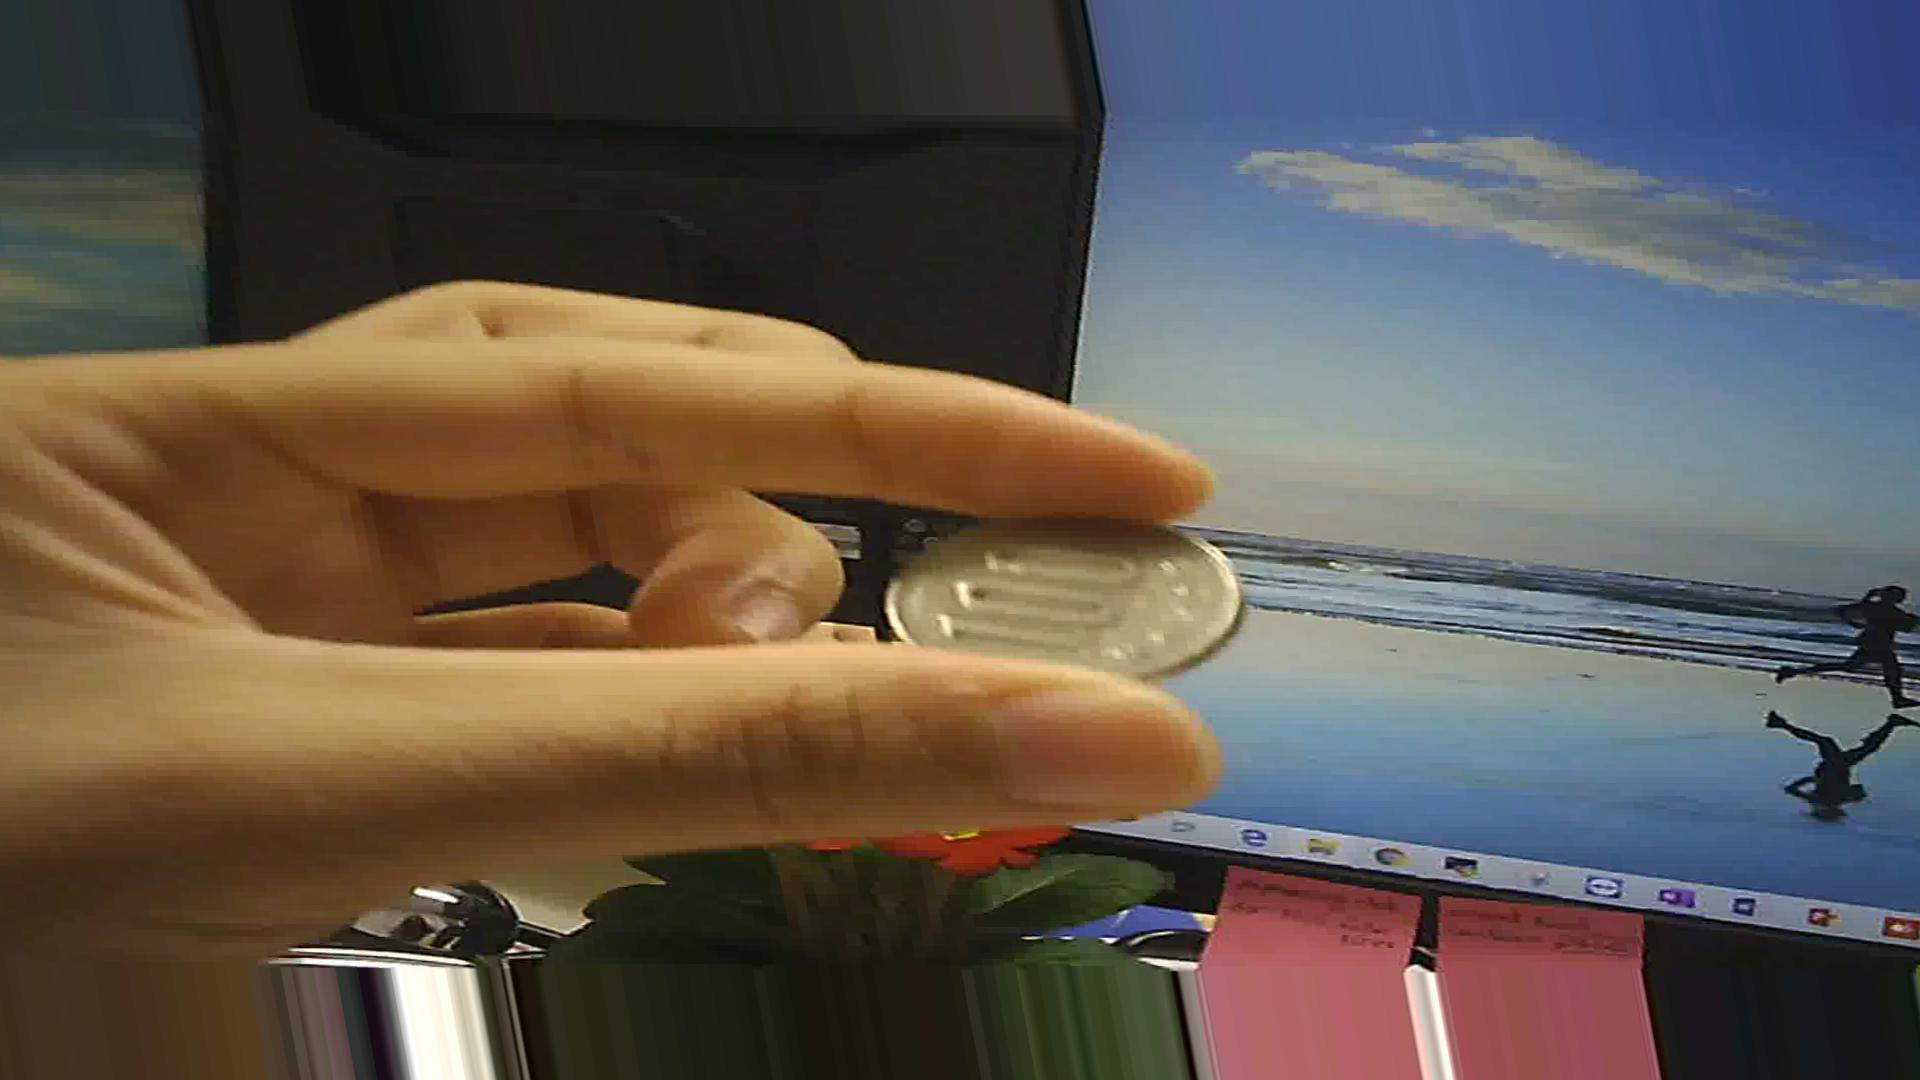100 Yen: (882, 498, 1247, 692)
